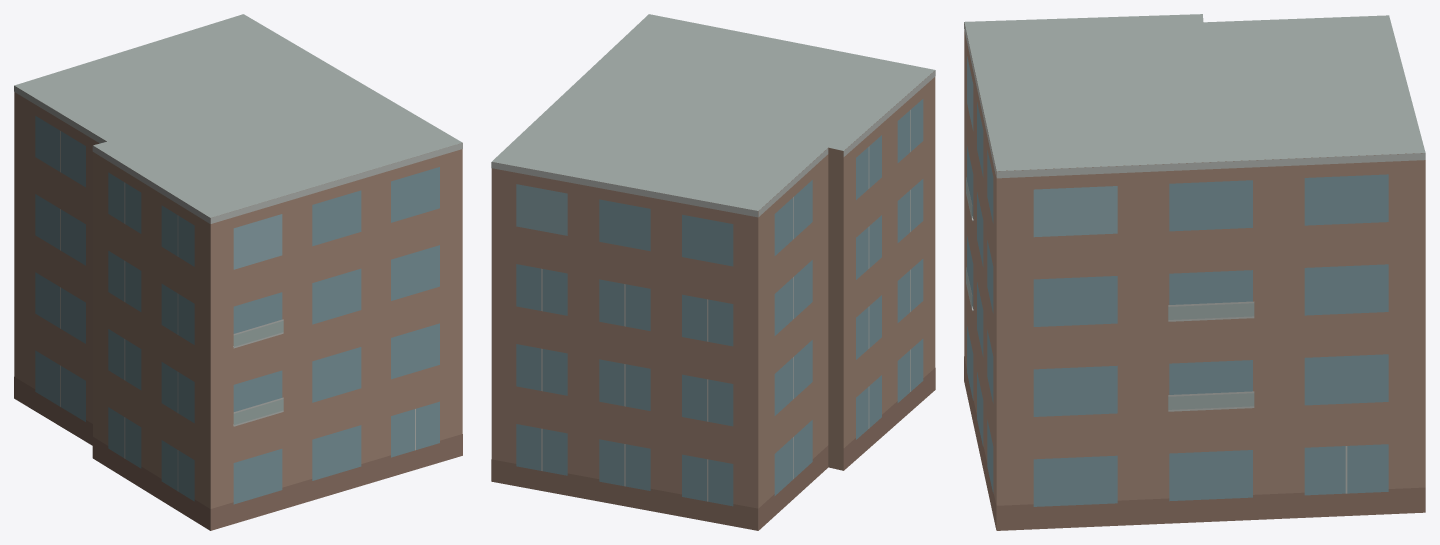
File: survey-upis-32654158.glb
3 views of the same model, side by side, from view 1: azimuth 30°, elevation 25°; view 2: azimuth 150°, elevation 25°; view 3: azimuth 270°, elevation 25° (orthographic). The views are drawn at different scales.
Parts seen in each view (by area): view 1: survey-upis-32654158.tmp; view 2: survey-upis-32654158.tmp; view 3: survey-upis-32654158.tmp.
Part boxes in pixels (x1,y1,x2,y2): survey-upis-32654158.tmp: (14, 14, 462, 530); survey-upis-32654158.tmp: (491, 14, 935, 530); survey-upis-32654158.tmp: (964, 14, 1425, 530).
Bounding box in the file's own units: 11.44 × 12.2 × 14.19.
